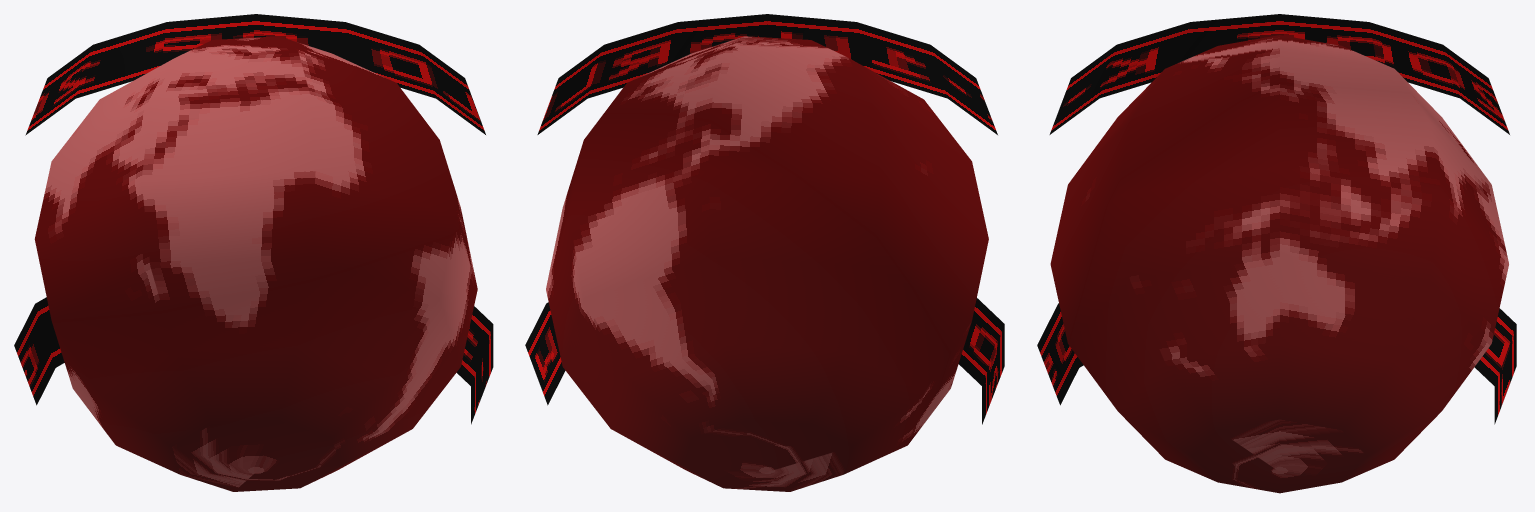
The model's file is ps2_save-icons_k1worldgp2005.glb.
3 views of the same model, side by side, from view 1: azimuth 30°, elevation 25°; view 2: azimuth 150°, elevation 25°; view 3: azimuth 270°, elevation 25° (orthographic).
Parts seen in each view (by area): view 1: k1wgp.ico; view 2: k1wgp.ico; view 3: k1wgp.ico.
Part boxes in pixels (bbox=[...]): k1wgp.ico: bbox=[14, 14, 493, 491]; k1wgp.ico: bbox=[525, 14, 1004, 491]; k1wgp.ico: bbox=[1037, 14, 1516, 493].
Bounding box in the file's own units: 3.07 × 2.92 × 3.07.
1 material, 1 textured.
